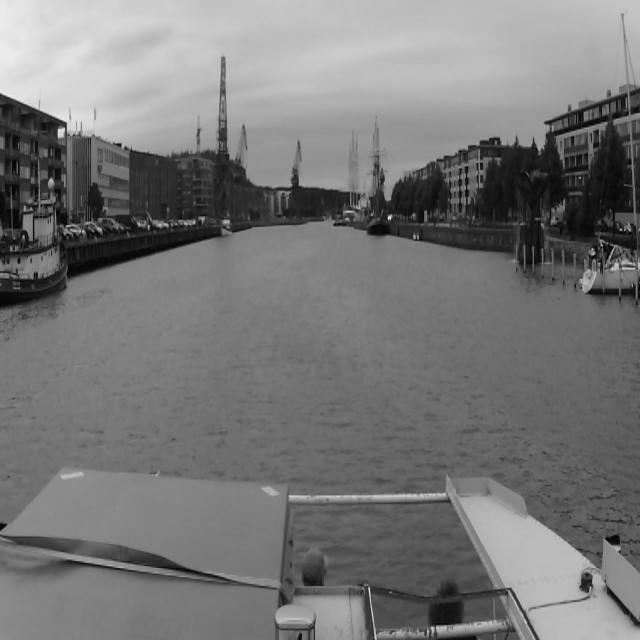ship: (580, 9, 640, 298), (0, 153, 68, 308), (366, 113, 390, 235), (344, 128, 361, 224), (220, 212, 232, 238), (412, 232, 420, 241)
